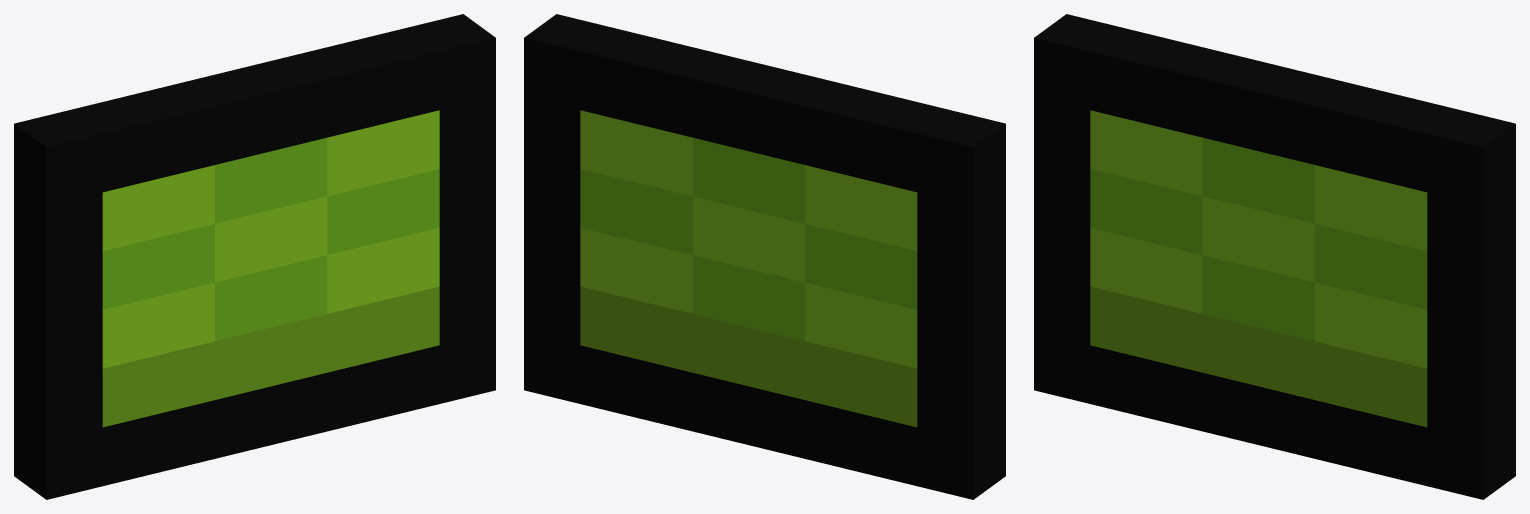
File: Lime Carpet.glb
3 views of the same model, side by side, from view 1: azimuth 30°, elevation 25°; view 2: azimuth 150°, elevation 25°; view 3: azimuth 330°, elevation 25° (orthographic).
Parts seen in each view (by area): view 1: generated(Clone); view 2: generated(Clone); view 3: generated(Clone).
Part boxes in pixels (bbox=[...]): generated(Clone): bbox=[14, 14, 495, 499]; generated(Clone): bbox=[524, 14, 1005, 499]; generated(Clone): bbox=[1034, 14, 1515, 499].
Size of the model in its own units: 8 by 6 by 1.
Materials: 1 (1 with a texture image).
